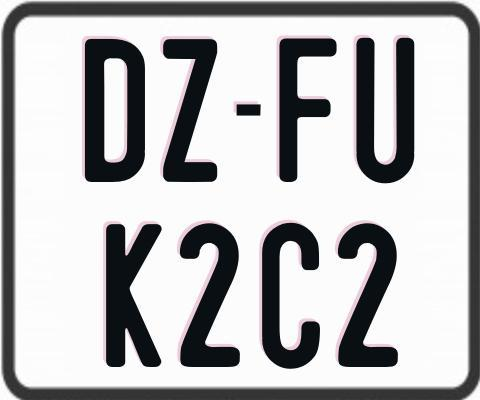2: (180, 221, 246, 367), (337, 220, 397, 370)
C: (259, 221, 323, 373)
D: (84, 38, 150, 184)
F: (278, 36, 339, 180)
K: (106, 224, 166, 369)
U: (356, 36, 415, 181)
Z: (160, 38, 219, 181)
